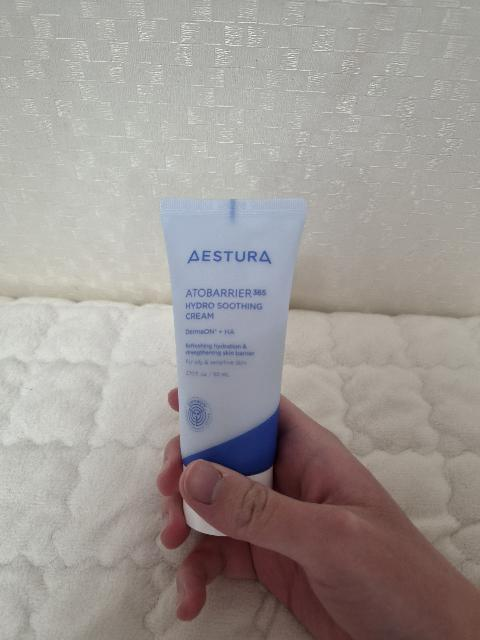handcream: (159, 198, 307, 537)
